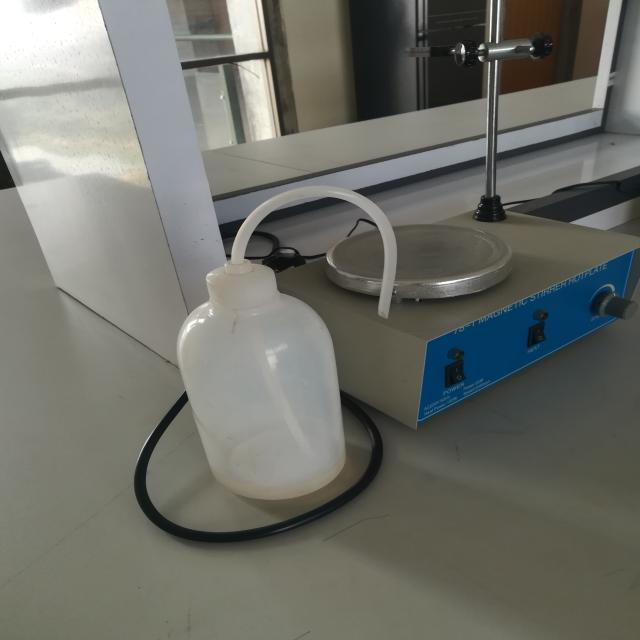Wash_Bottle: (138, 163, 447, 518)
